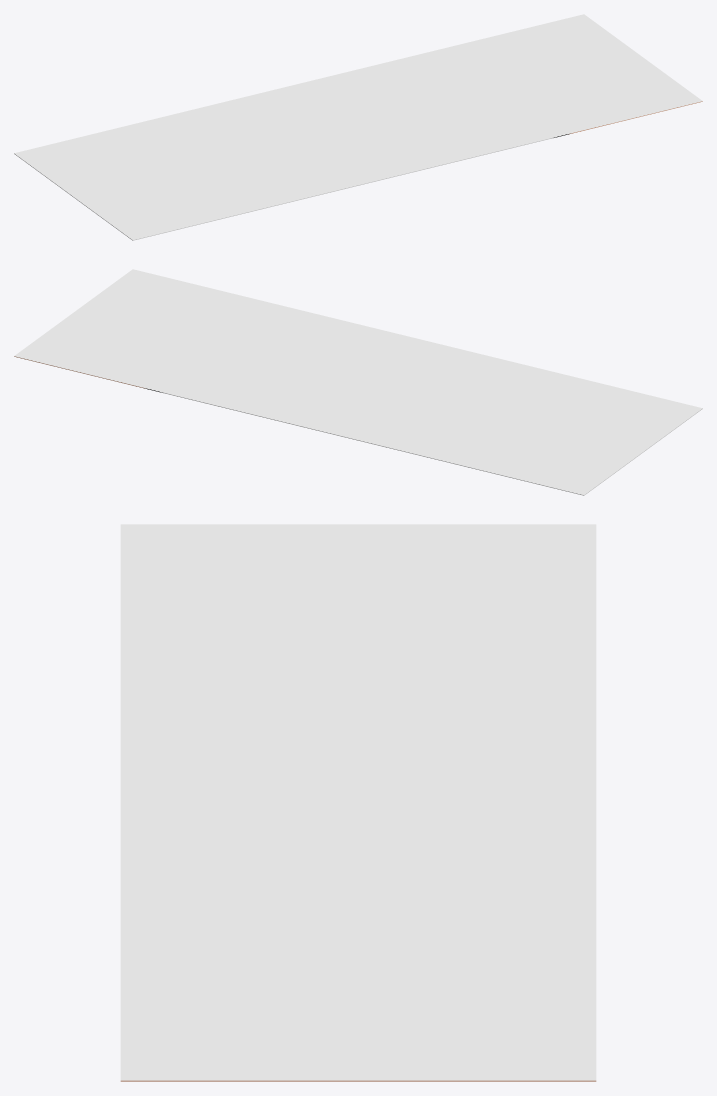
The model's file is Level 110 Roll Diamond.fbx.
3 views of the same model, one above another, from view 1: azimuth 30°, elevation 25°; view 2: azimuth 150°, elevation 25°; view 3: azimuth 270°, elevation 25° (orthographic). The views are drawn at different scales.
Parts seen in each view (by area): view 1: Blend; view 2: Blend; view 3: Blend.
Part boxes in pixels (x1,y1,x2,y2): Blend: (14, 14, 702, 240); Blend: (14, 269, 702, 495); Blend: (120, 524, 596, 1081).
Size of what is drawn, in the model's own units: 1176 by 1 by 425.
